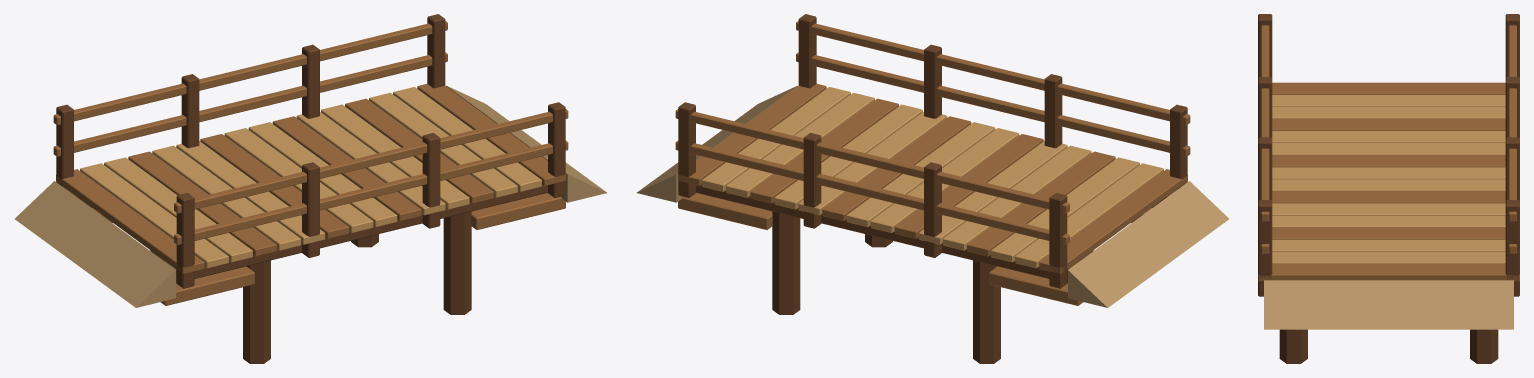
File: Bridge_Wood.fbx
3 renders of one model, left to right at view 1: azimuth 30°, elevation 25°; view 2: azimuth 150°, elevation 25°; view 3: azimuth 270°, elevation 25°, orthographic. The views are drawn at different scales.
Visible parts, largest first — view 1: Bridge_Wood; view 2: Bridge_Wood; view 3: Bridge_Wood.
Boxes of the visible parts, x1,y1,x2,y2 form: Bridge_Wood: (15, 14, 606, 363); Bridge_Wood: (637, 14, 1228, 363); Bridge_Wood: (1258, 14, 1519, 363).
Bounding box in the file's own units: 4.7 × 1.85 × 2.2.
Materials: 1 (1 with a texture image).
